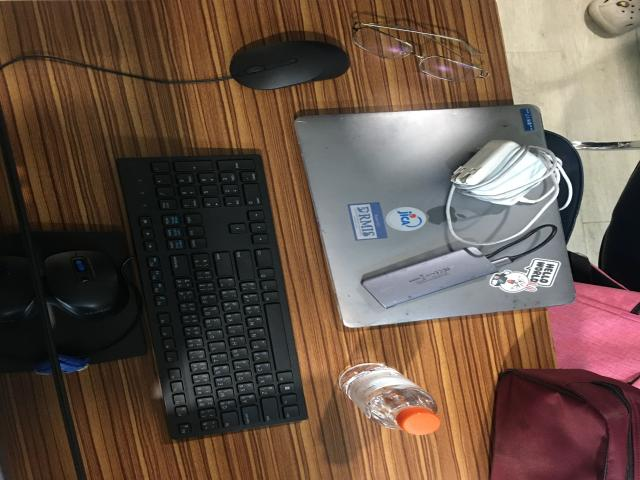Glasses: (345, 20, 498, 88)
Mouse: (42, 248, 132, 327), (229, 38, 352, 92)
bottle: (338, 363, 442, 436)
wire: (445, 140, 572, 246)
